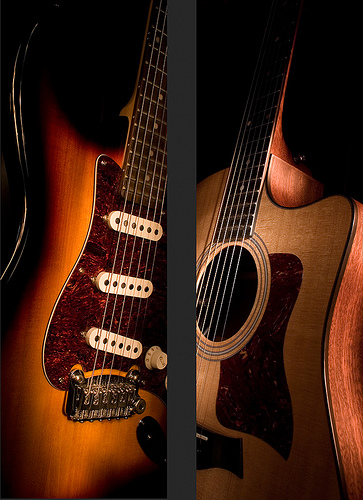guitar: (195, 1, 363, 500)
